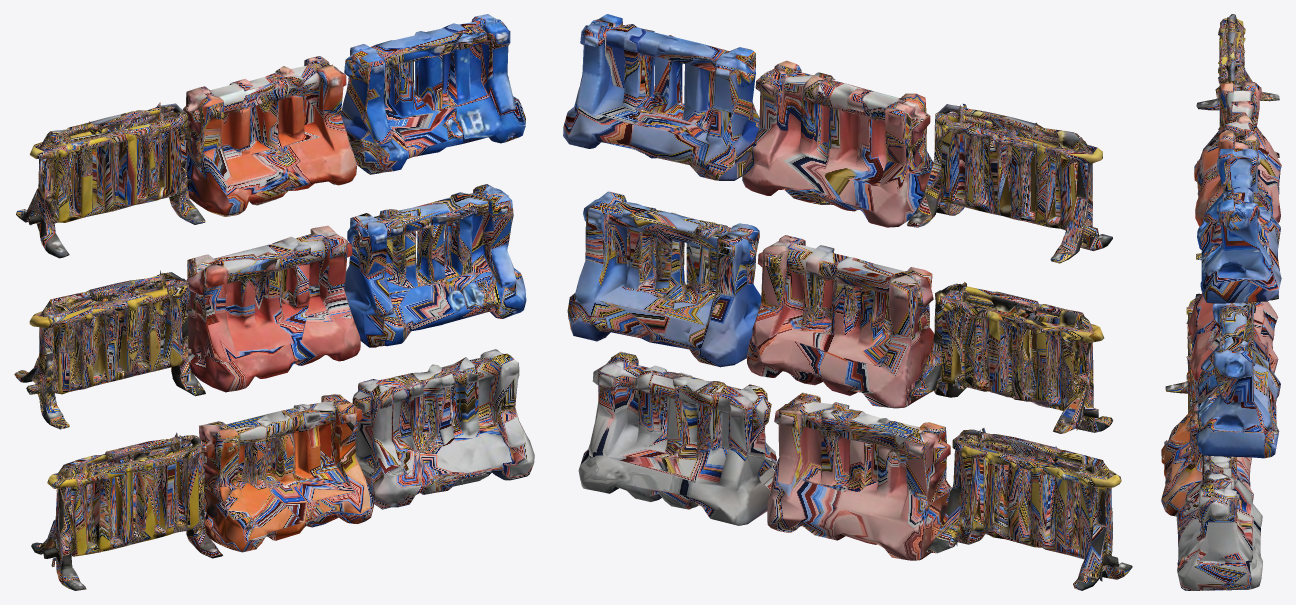
Rendered from roadside_barricade.glb.
3 renders of one model, left to right at view 1: azimuth 30°, elevation 25°; view 2: azimuth 150°, elevation 25°; view 3: azimuth 270°, elevation 25°, orthographic. The views are drawn at different scales.
Bounding box in the file's own units: 0.977 × 0.837 × 0.237.
Materials: 1 (1 with a texture image).
